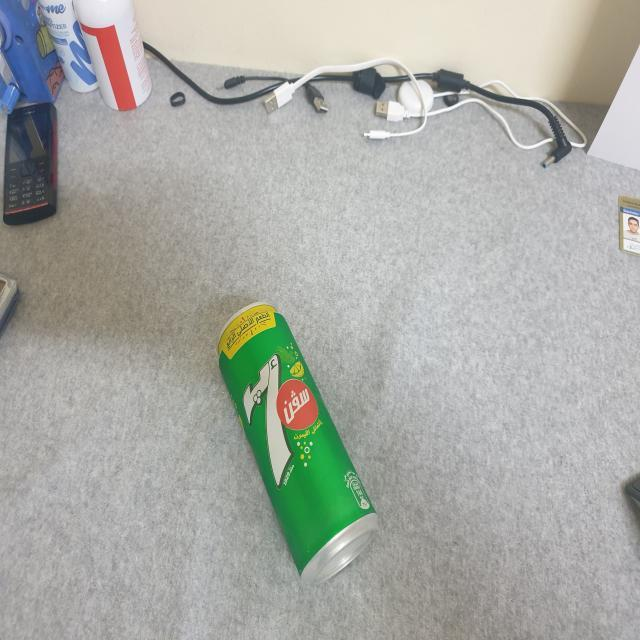can: (208, 287, 388, 597)
